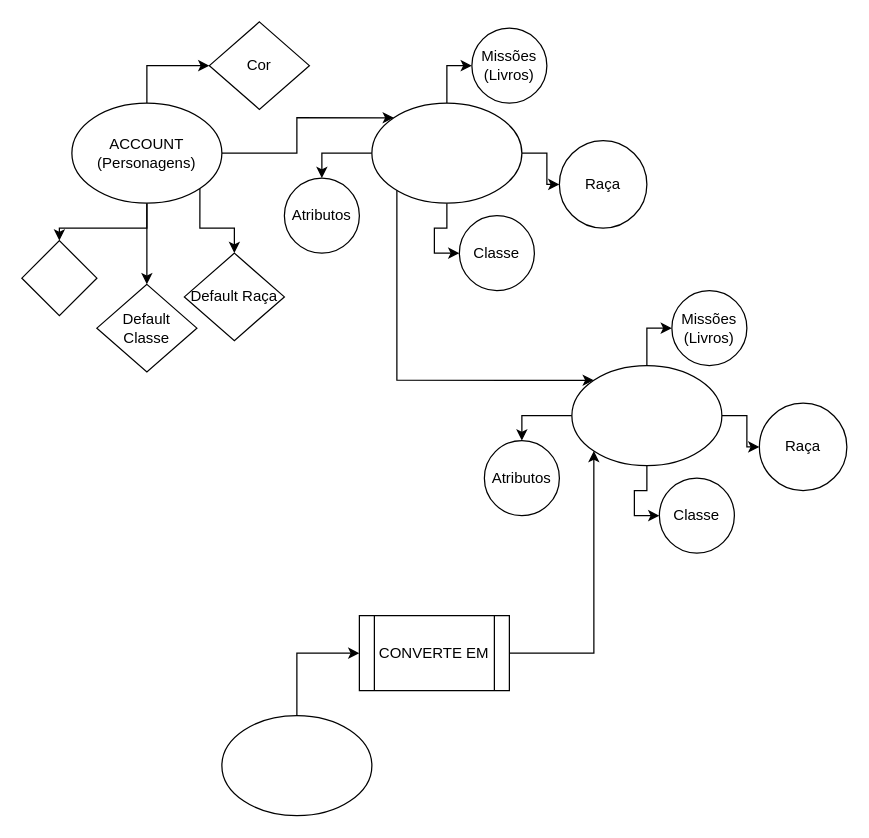
Image size: 869x838. Some labels were removed from this diagram. Here are the shapes that lost their labels. From the top down, the box of each, then its label:
(371, 102, 522, 203): ASSETS
(21, 239, 97, 316): Coins
(571, 364, 722, 466): PRODUCT2
(221, 714, 372, 816): BOOKLEAD__c
